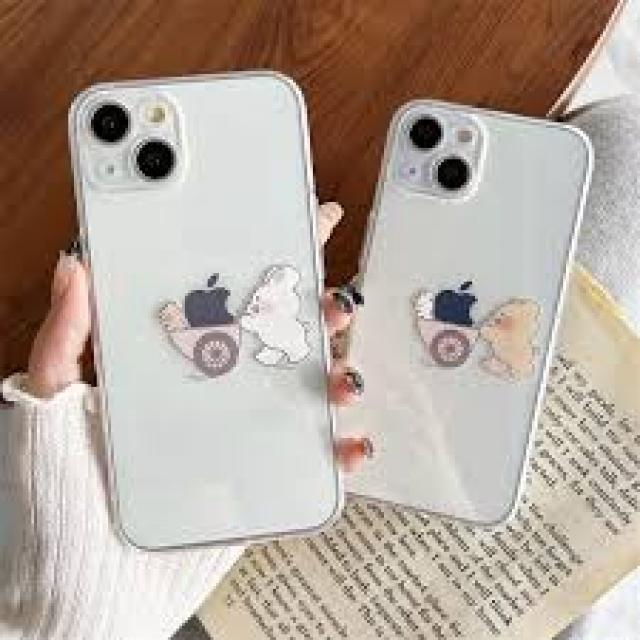lens: (84, 95, 185, 188), (400, 110, 484, 195)
phone: (67, 69, 346, 555), (337, 95, 598, 530)
